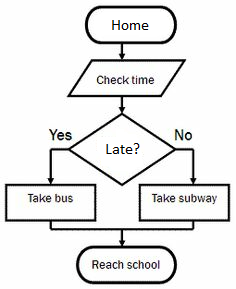arrow: (47, 220, 126, 245), (118, 221, 196, 244), (174, 147, 197, 185), (46, 146, 67, 182), (119, 95, 126, 113), (119, 43, 125, 59)
data: (66, 57, 185, 98)
decision: (68, 112, 175, 186)
process: (4, 182, 98, 223), (139, 182, 233, 223)
terminator: (76, 245, 178, 285), (84, 4, 178, 45)
text: (151, 191, 218, 206), (91, 258, 162, 270), (95, 73, 155, 86), (27, 191, 74, 206), (110, 18, 150, 32), (105, 141, 142, 156), (48, 127, 74, 142), (174, 127, 193, 141)
